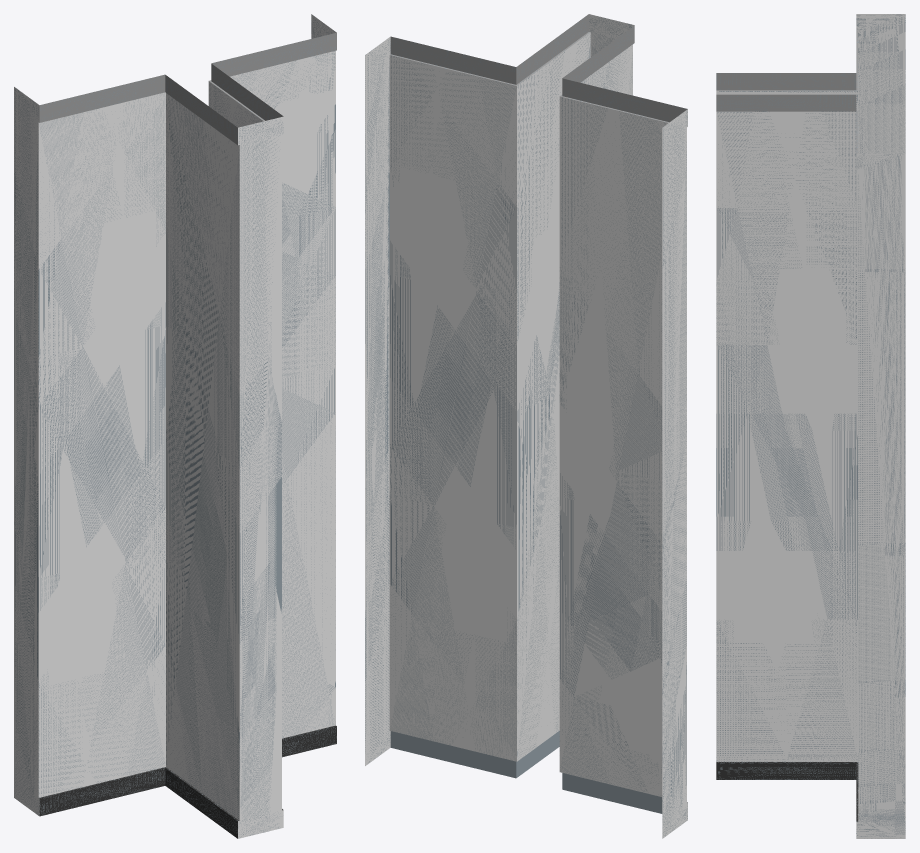
Rendered from Corner_os_double_plinth_075x075x025x4.dae.
3 renders of one model, left to right at view 1: azimuth 30°, elevation 25°; view 2: azimuth 150°, elevation 25°; view 3: azimuth 270°, elevation 25°, orthographic. The views are drawn at different scales.
Parts seen in each view (by area): view 1: group_0 (×5); view 2: group_0 (×5); view 3: group_0 (×4).
Boxes of the visible parts, x1=… form: group_0 (×5): x1=14, y1=14, x2=336, y2=838; group_0 (×5): x1=365, y1=14, x2=687, y2=838; group_0 (×4): x1=716, y1=14, x2=905, y2=838.
Size of the model in its own units: 68.9 by 39.37 by 157.
